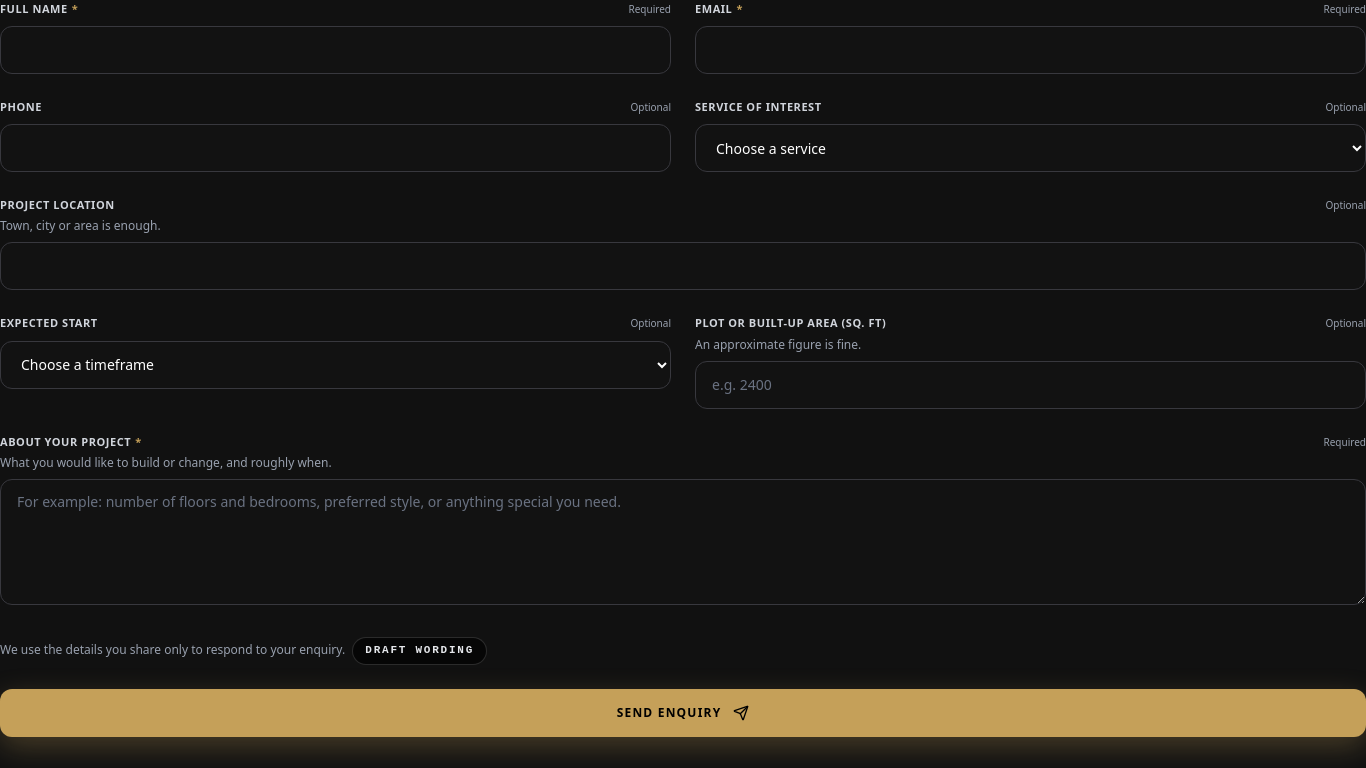
Test case: enquiry form › treats a provider-reported failure as a failure, even with HTTP 200
Type "Alex Example" into the field labelled "Full name* Required" at (336, 50), box [0,26,671,74]
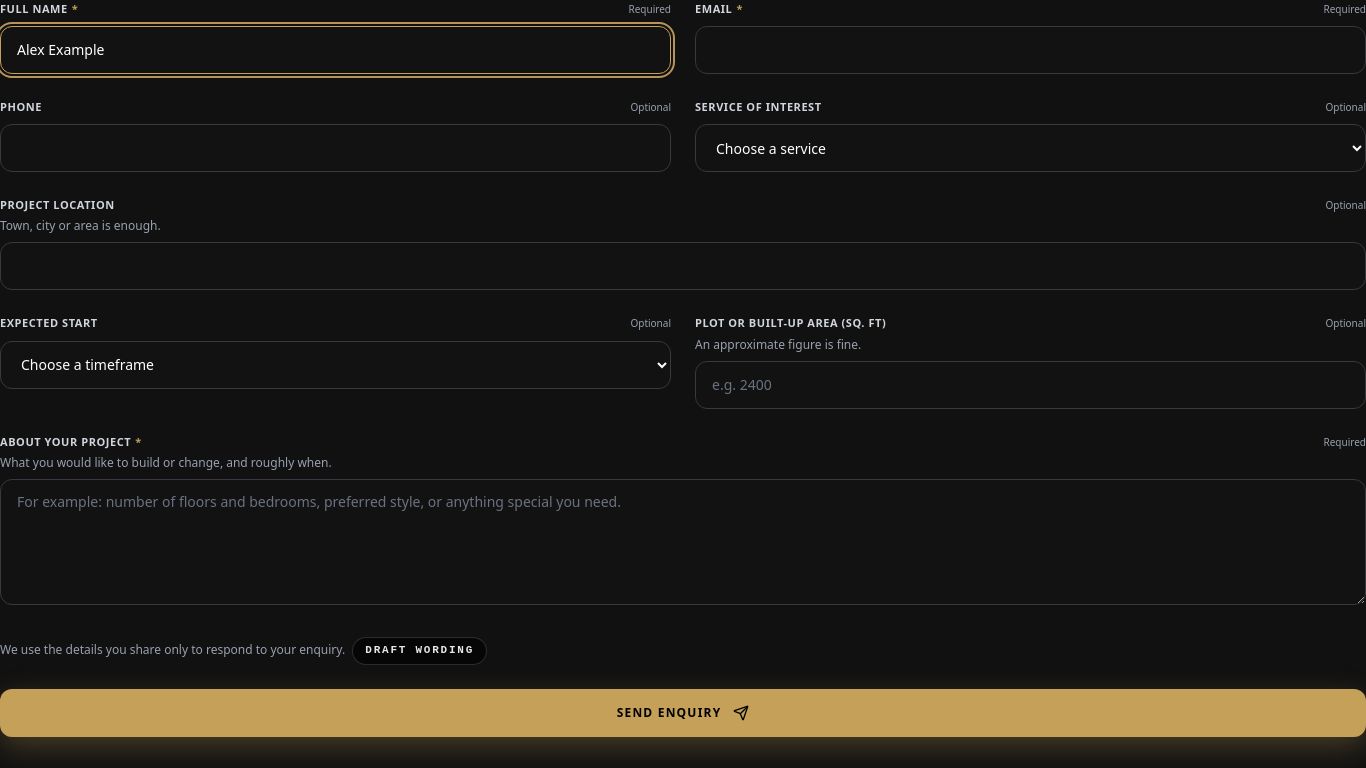
Type "alex@example.com" into the field labelled "Email* Required" at (1030, 50), box [695,26,1365,74]
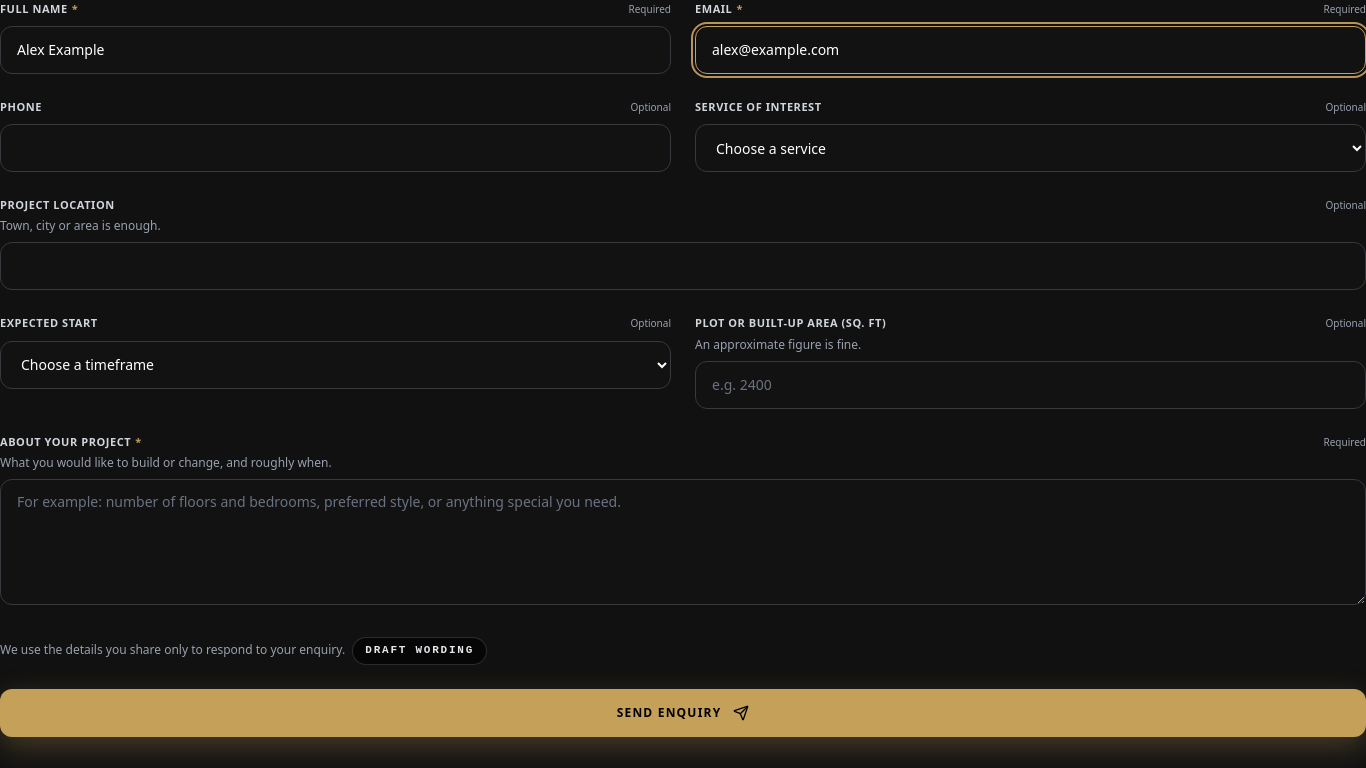
Type "A two-storey home on an existing plot." into the text box labelled "About your project* Required" at (683, 542), box [0,479,1365,605]
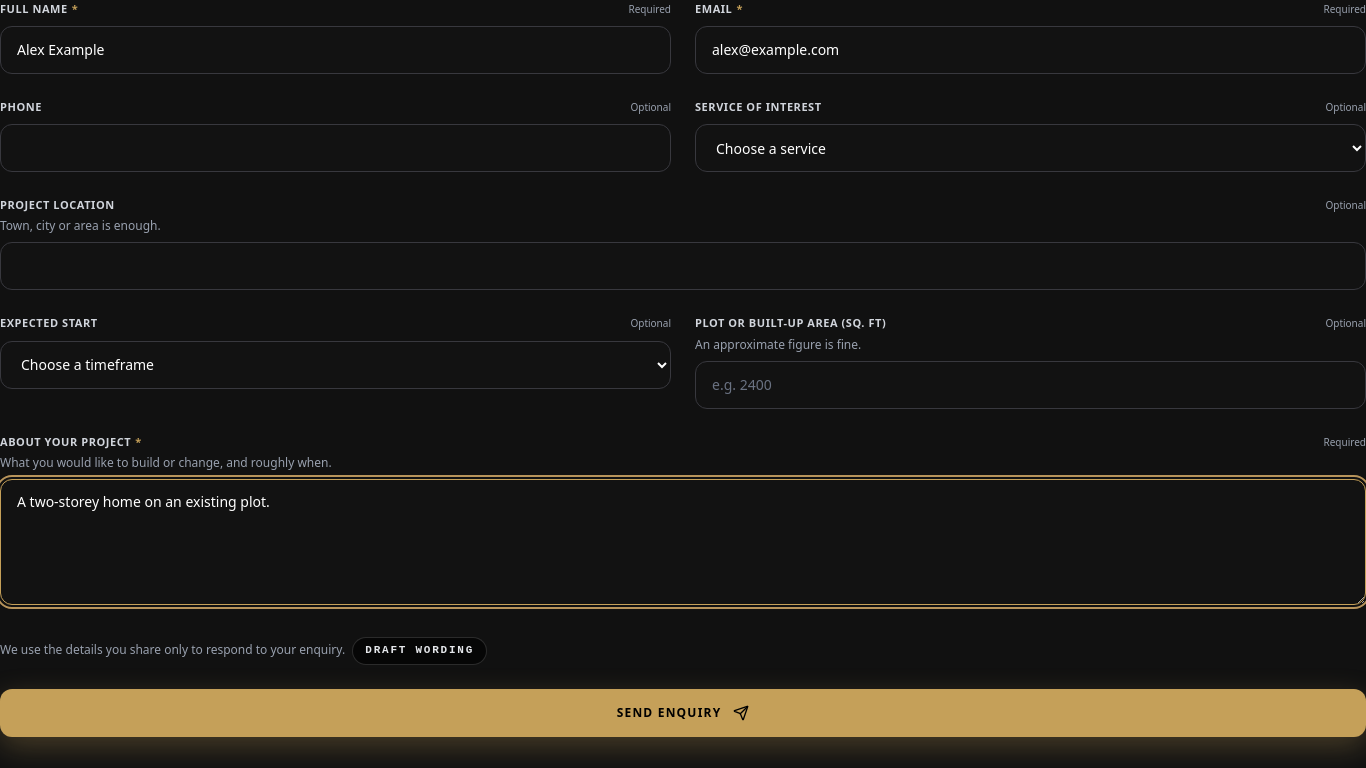
Click the button "Send enquiry" at (683, 713), box [0,689,1365,737]
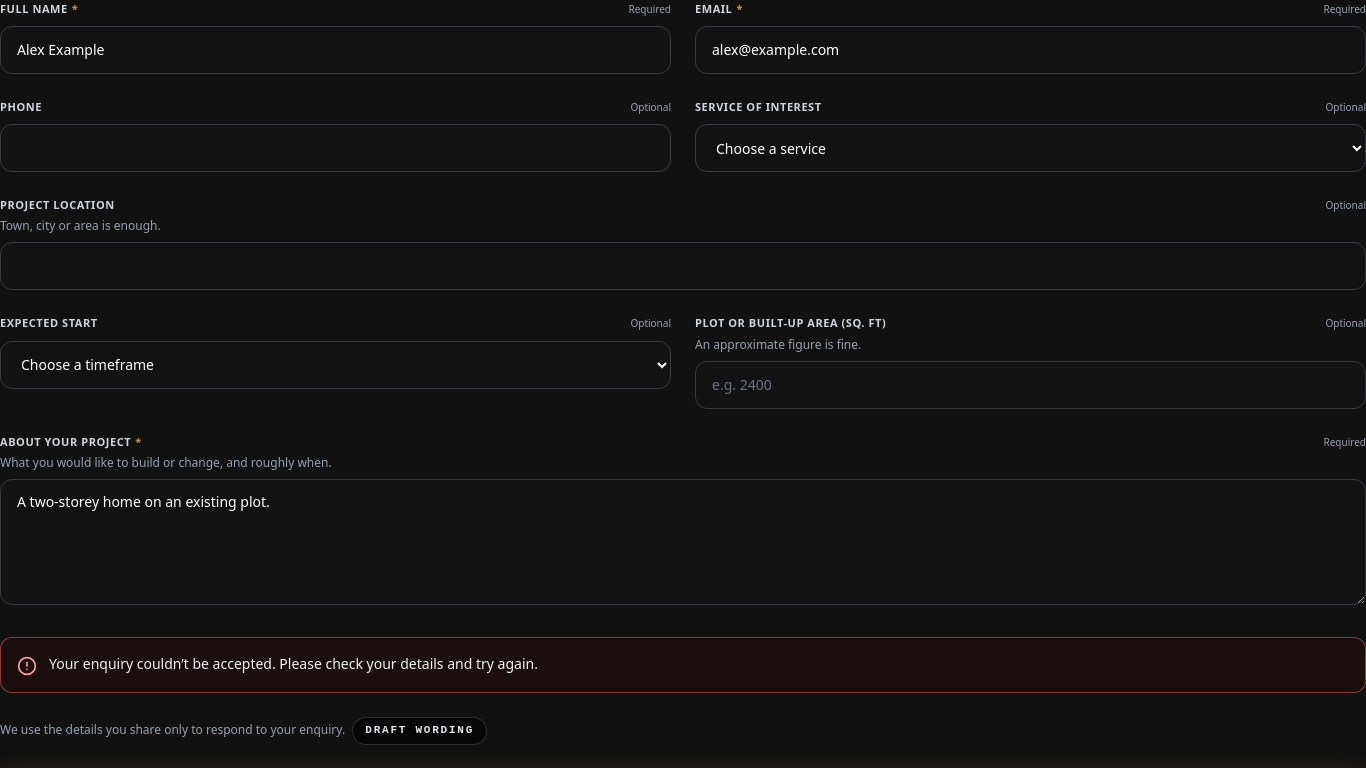
Result: the text "couldn’t be accepted" is shown at [49,654,538,673]
